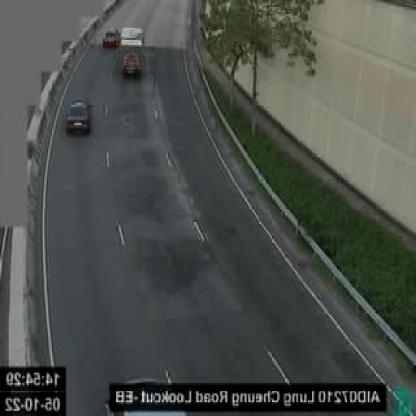Car: (65, 98, 94, 138), (102, 28, 119, 47)
Truck: (120, 24, 144, 76)
